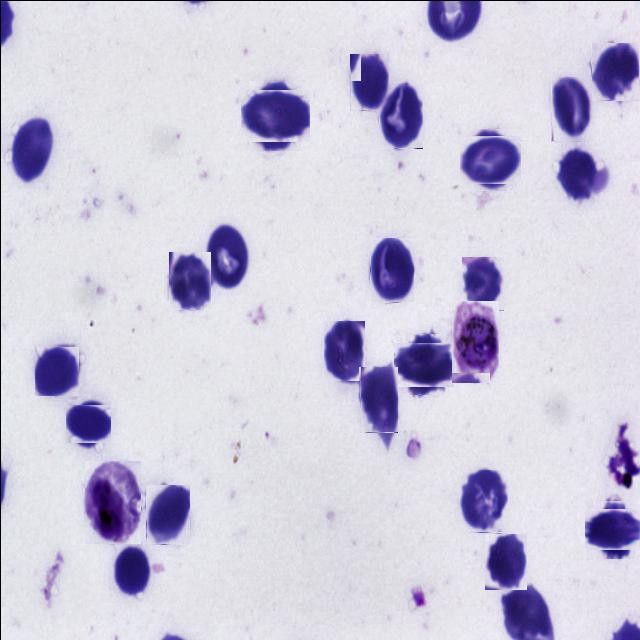difficult: (84, 460, 140, 543)
gametocyte: (450, 300, 498, 383)
red blood cell: (244, 84, 305, 146), (458, 469, 507, 532), (10, 114, 54, 182), (204, 222, 250, 287), (462, 132, 517, 186), (378, 82, 422, 148), (369, 237, 413, 302), (590, 42, 638, 100), (397, 337, 449, 390), (550, 76, 592, 141), (145, 484, 189, 544), (324, 320, 366, 380), (359, 366, 397, 432), (588, 504, 638, 554), (168, 251, 210, 309), (484, 533, 526, 589), (460, 256, 503, 310), (349, 53, 388, 110), (34, 344, 78, 394), (556, 148, 598, 200), (113, 542, 150, 596), (66, 402, 108, 444)
